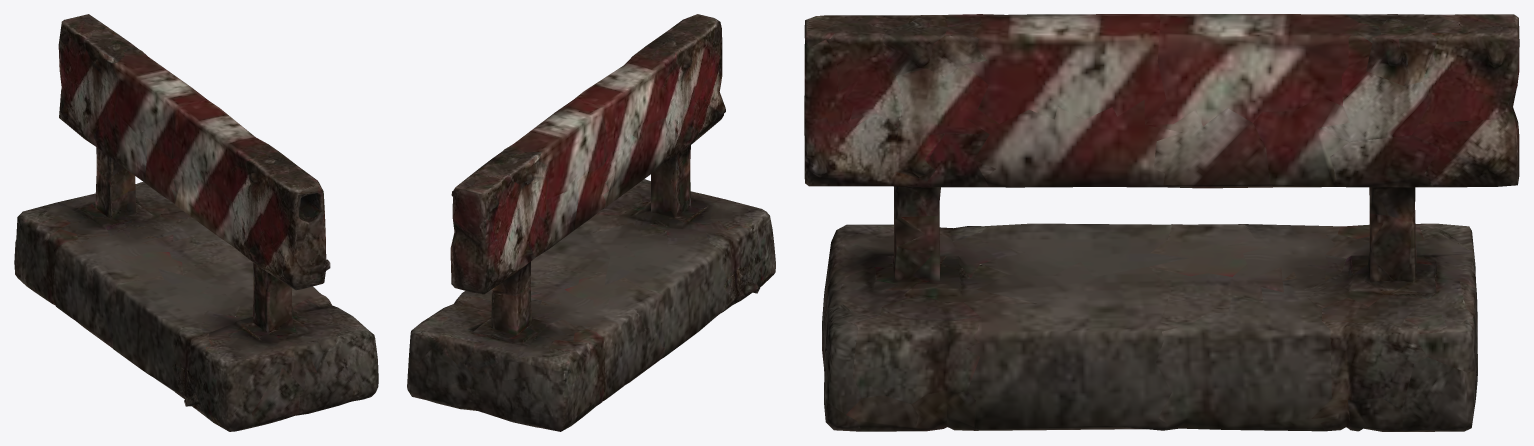
Rendered from blockset_b0.glb.
The picture shows the model from 3 angles, left to right: view 1: azimuth 30°, elevation 25°; view 2: azimuth 150°, elevation 25°; view 3: azimuth 270°, elevation 25°; orthographic projection. The views are drawn at different scales.
Bounding box in the file's own units: 55.53 × 76.55 × 137.
Materials: 1 (1 with a texture image).
